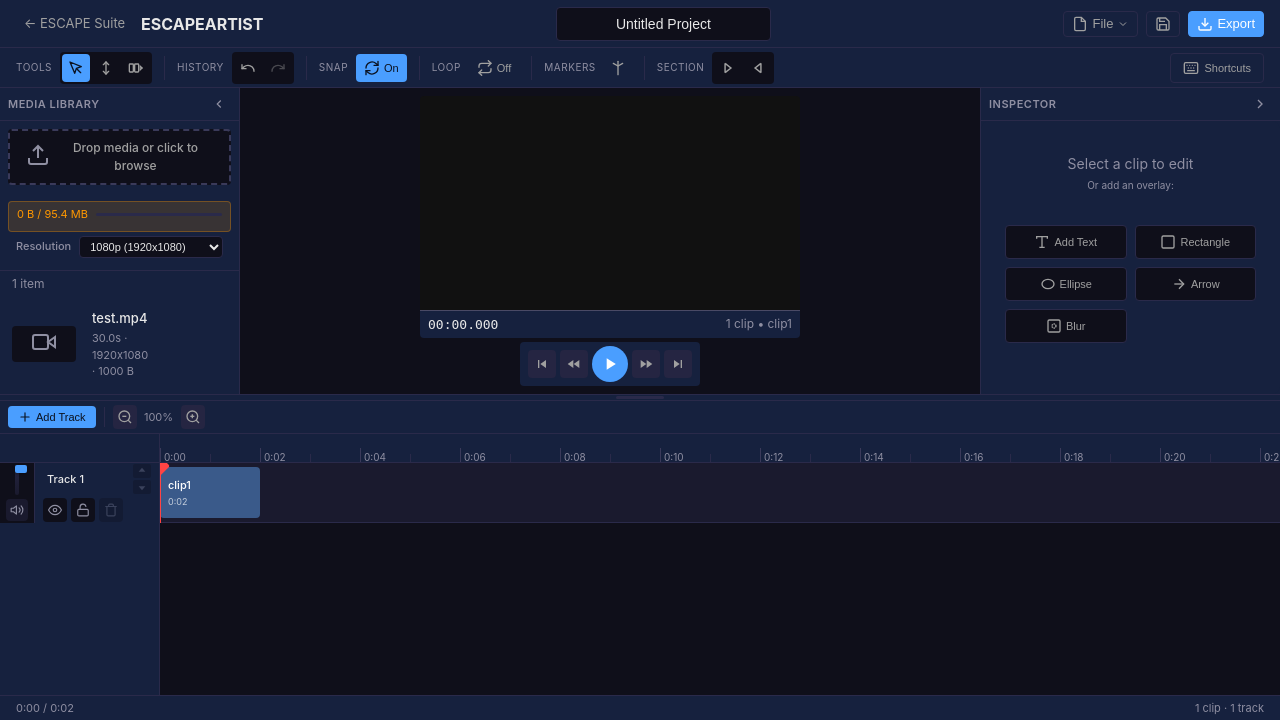
Test: App project lifecycle › the editor chrome › opens and closes the export dialog from the header
Click the button with aria-label "Export video": (1226, 24) 1188,10 -> 1264,36
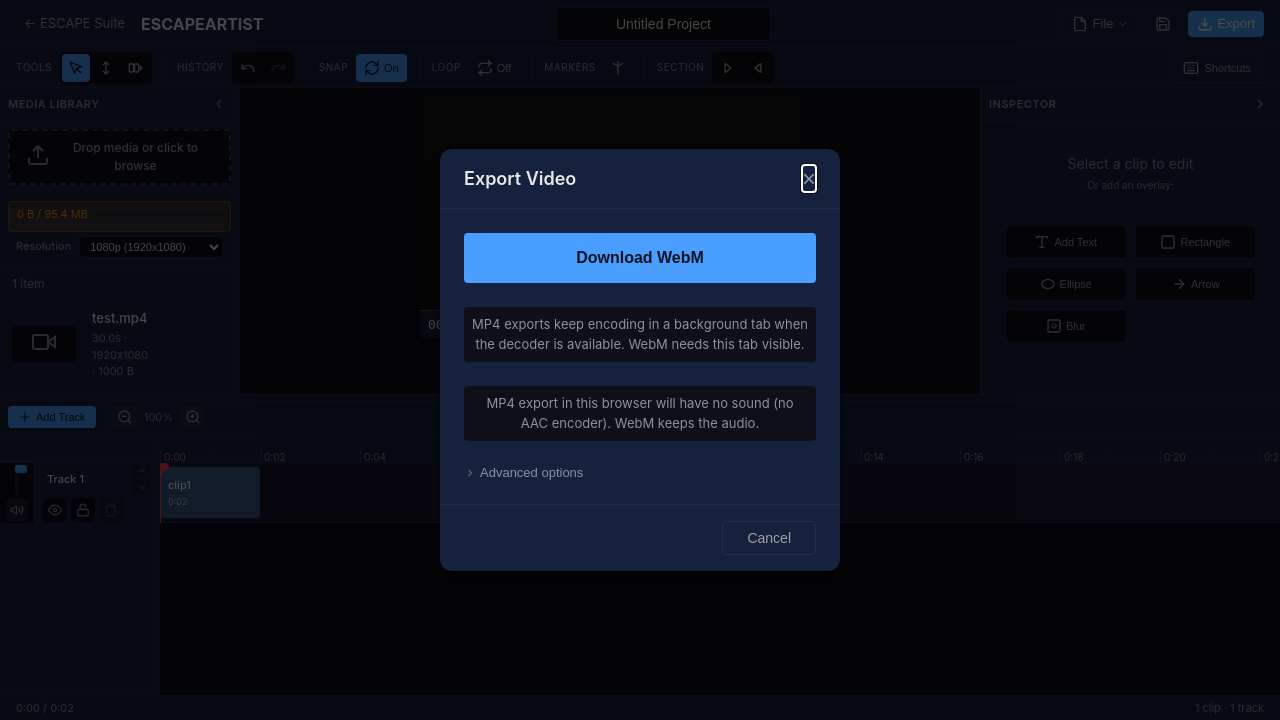
Now the heading "Export Video" is shown, box 464,165 -> 576,192
Click the button titled "Close": (809, 178) 802,166 -> 816,190
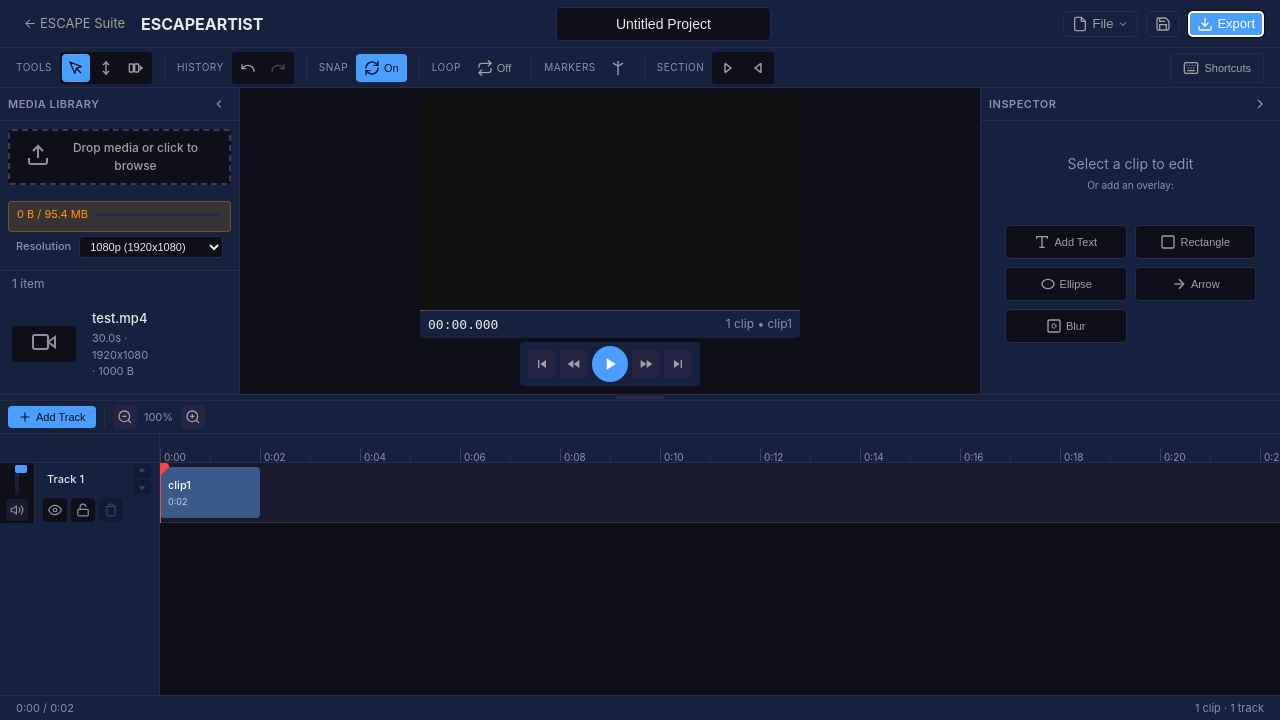
Now the heading "Export Video" is gone
